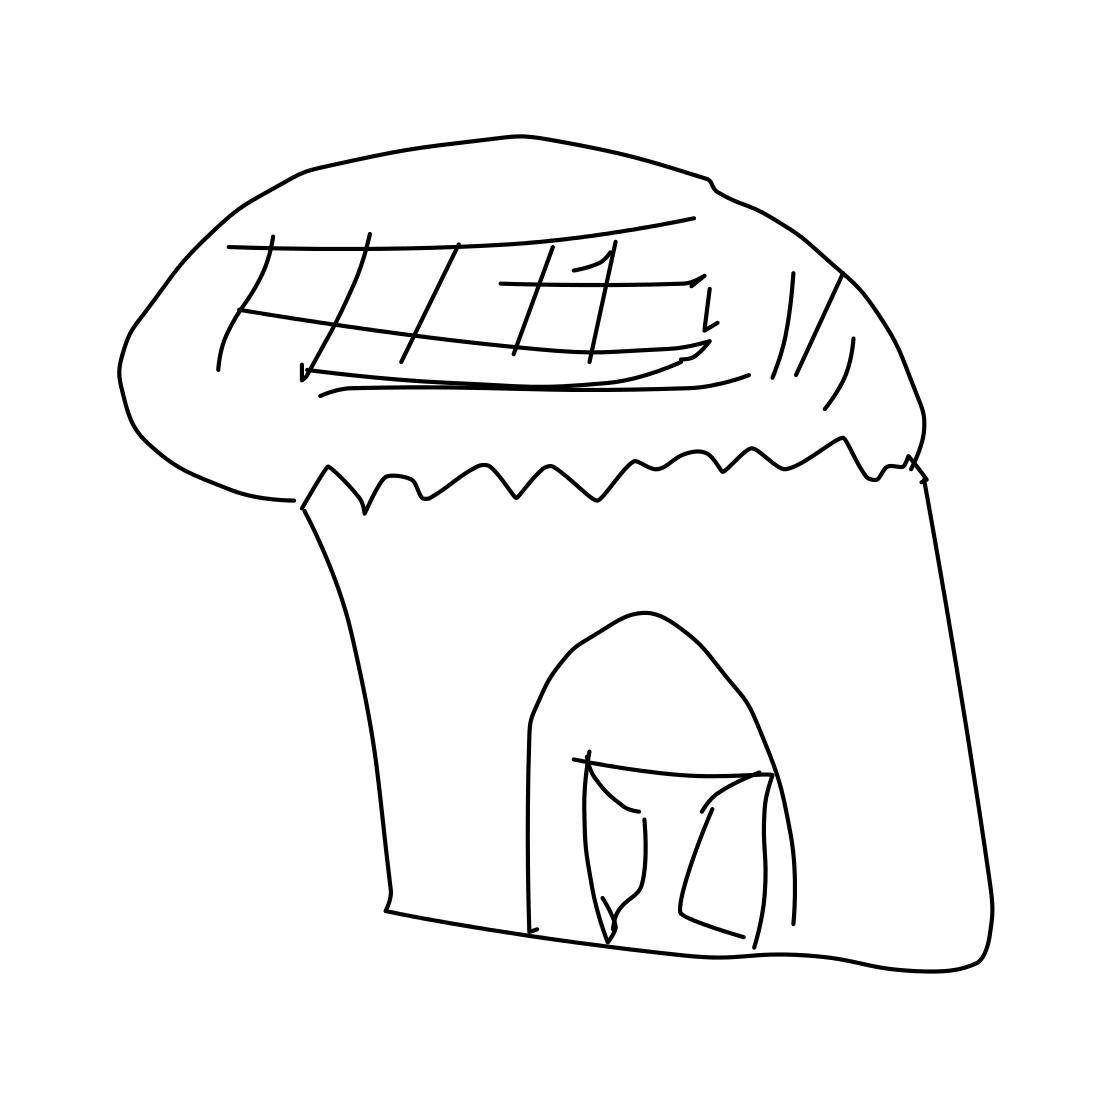door: (502, 587, 810, 980)
house: (118, 134, 996, 974)
roof: (100, 115, 953, 505)
wall: (264, 468, 1013, 992)
